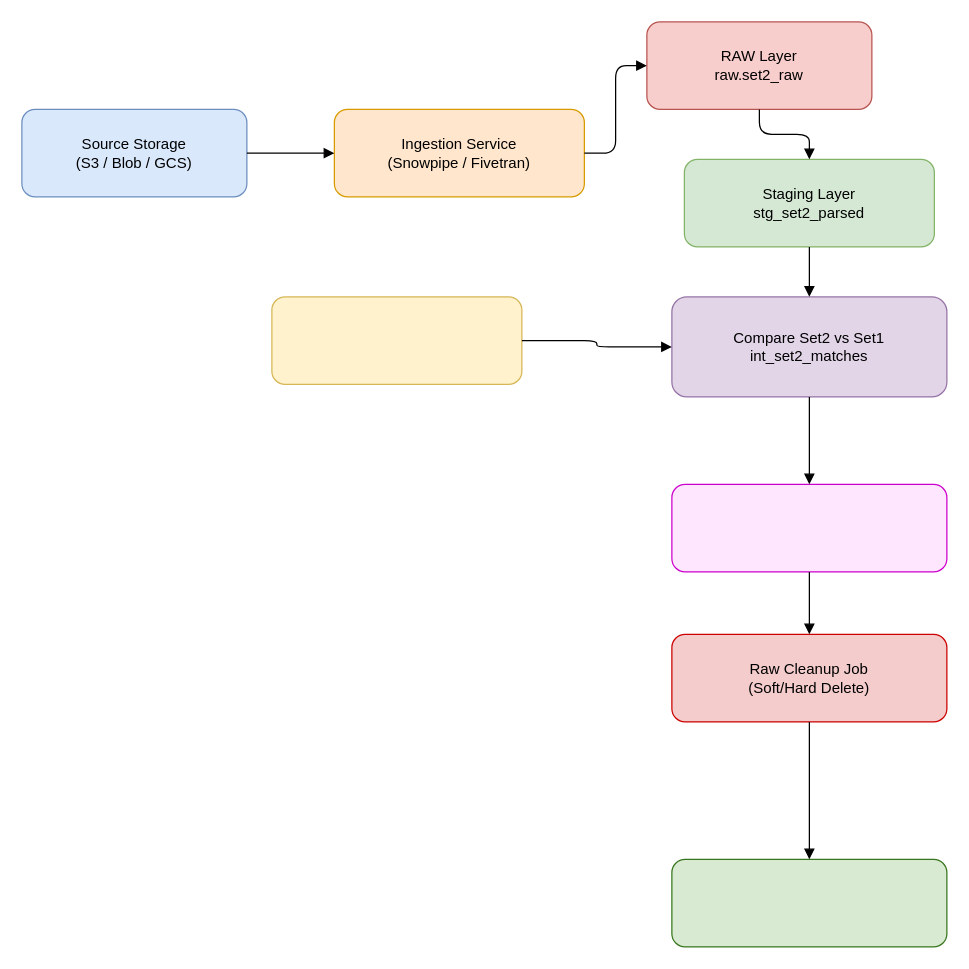
Some shapes in this 969 by 969 pixel diagram are drawn without their labels. Here are the shapes that lost their labels. From the top down, the box of each, then its label:
(271, 296, 522, 384): Set1 Business Keys stg_set1_keys
(671, 483, 947, 572): Keep List int_set2_raw_keep_list
(671, 858, 947, 947): Final Raw State Only Matching Records
